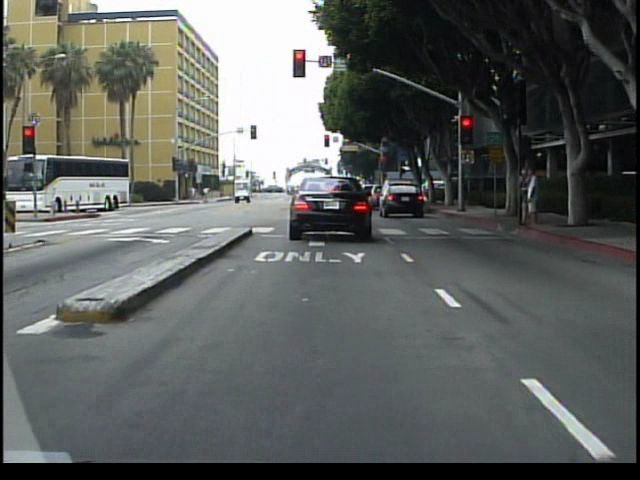person: (522, 167, 543, 233)
